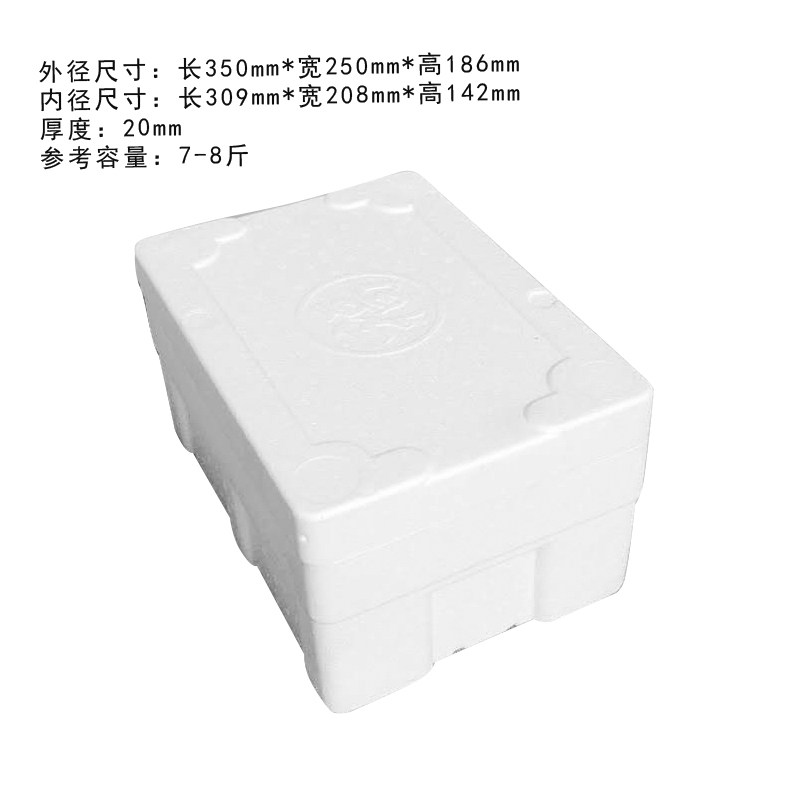泡沫箱: (136, 174, 652, 710)
